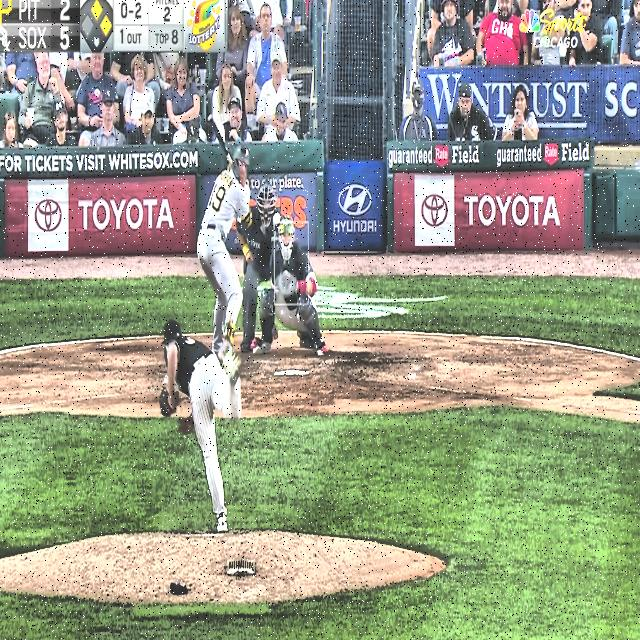baseball: (272, 212, 280, 225)
